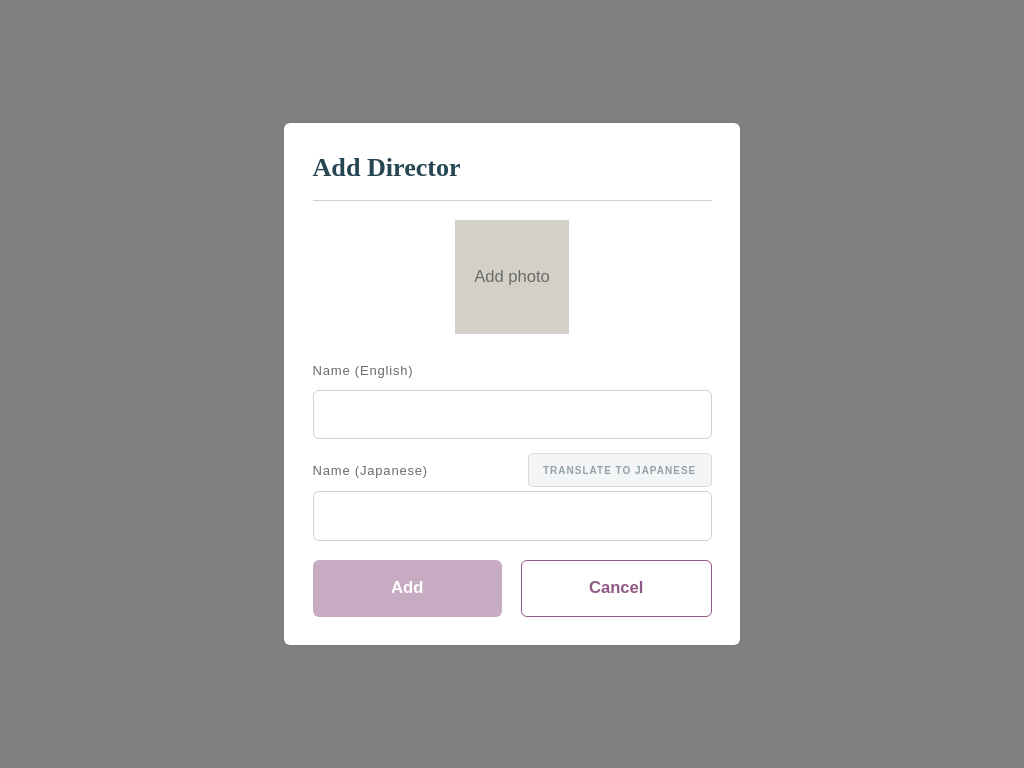
Test: MemberPopUp translation buttons › requires only an English name for directors
expect the button "Add" is disabled: met, box [312, 560, 502, 616]
Type "New Director" into the field labelled "Name (English)". click: (512, 414)
box: [312, 390, 712, 439]
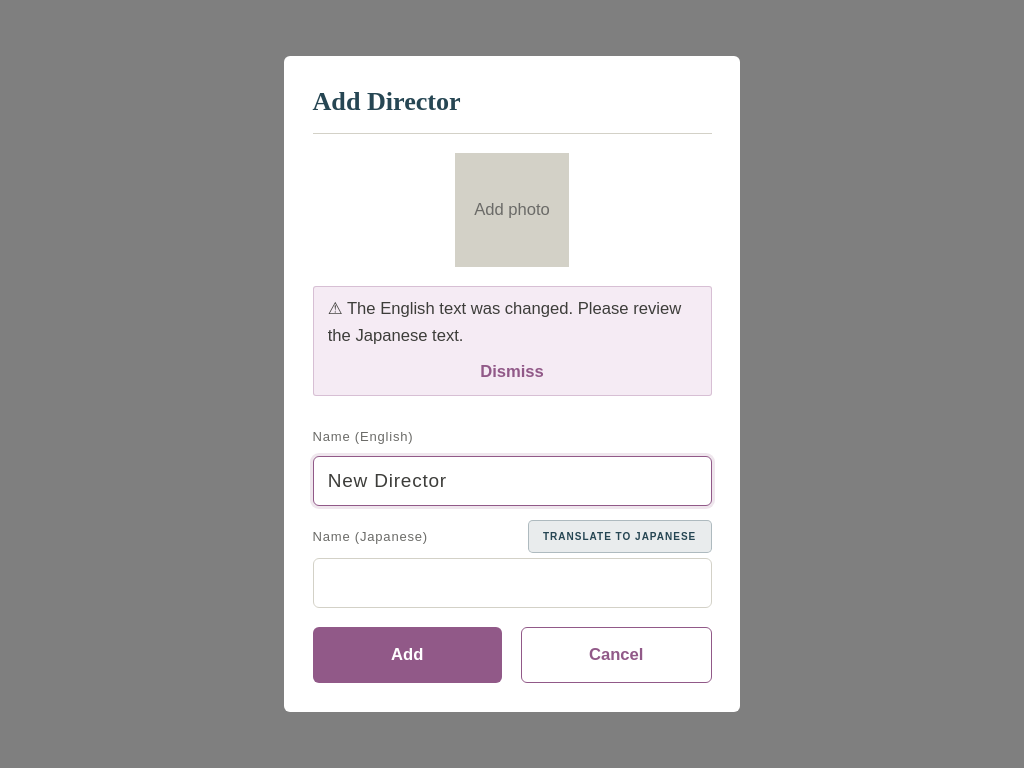
expect the button "Add" is enabled: met, box [312, 627, 502, 683]
